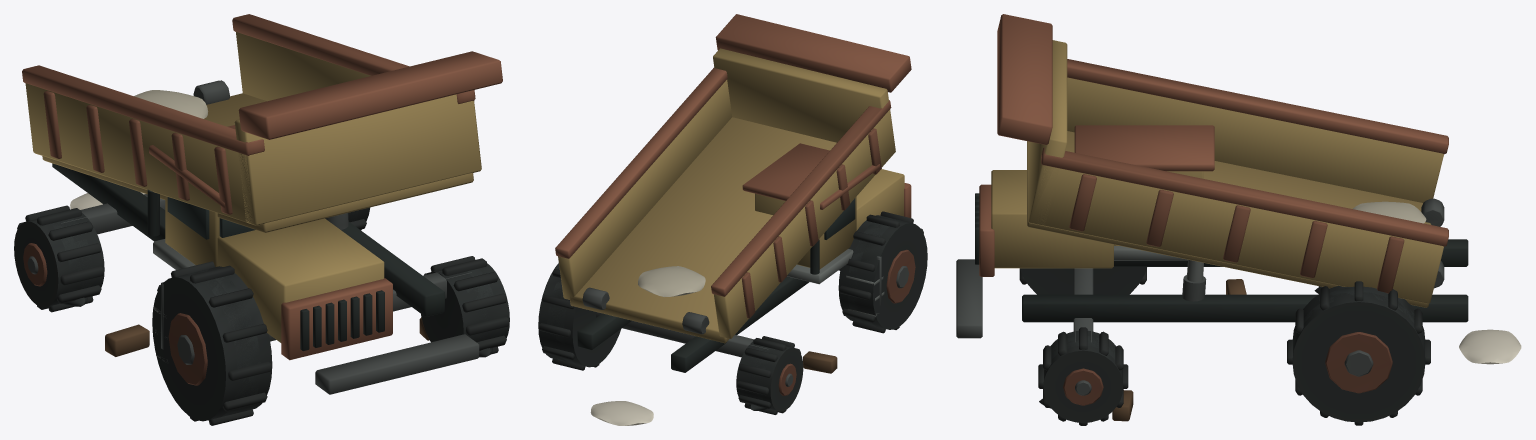
File: haul_truck_a.glb
The picture shows the model from 3 angles, left to right: view 1: azimuth 30°, elevation 25°; view 2: azimuth 150°, elevation 25°; view 3: azimuth 270°, elevation 25°; orthographic projection. The views are drawn at different scales.
Parts seen in each view (by area): view 1: Surface; view 2: Surface; view 3: Surface.
Part boxes in pixels (left/top/right/bottom): Surface: left=14, top=14, right=509, bottom=425; Surface: left=538, top=14, right=927, bottom=425; Surface: left=956, top=14, right=1521, bottom=425.
Bounding box in the file's own units: 7.32 × 7.49 × 12.91.
